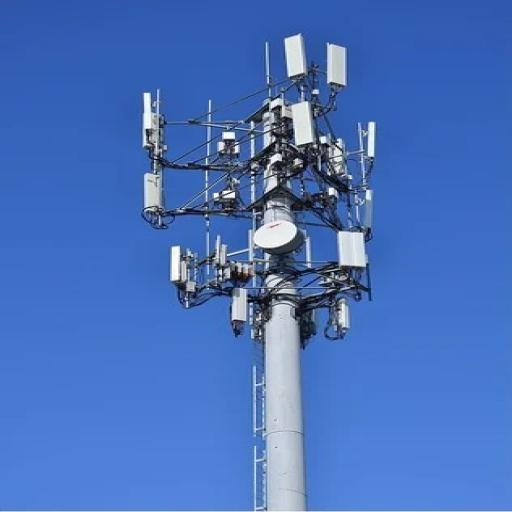monopole_tower: (118, 29, 405, 512)
